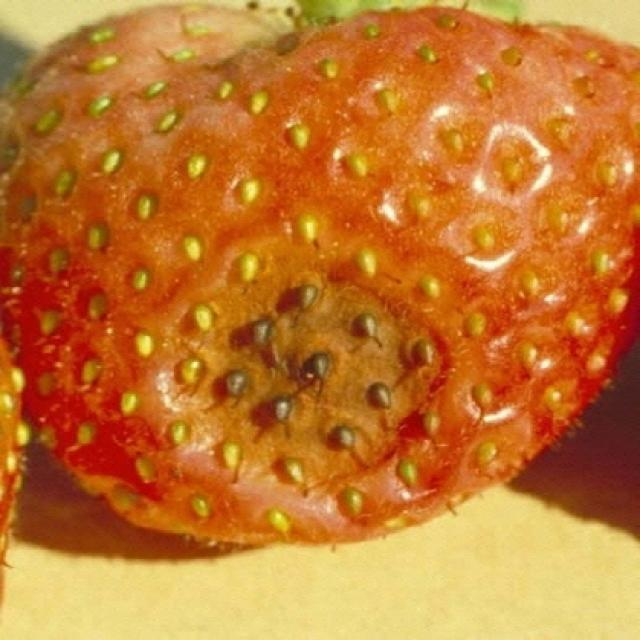Anthracnose Fruit Rot: (138, 238, 459, 508)
